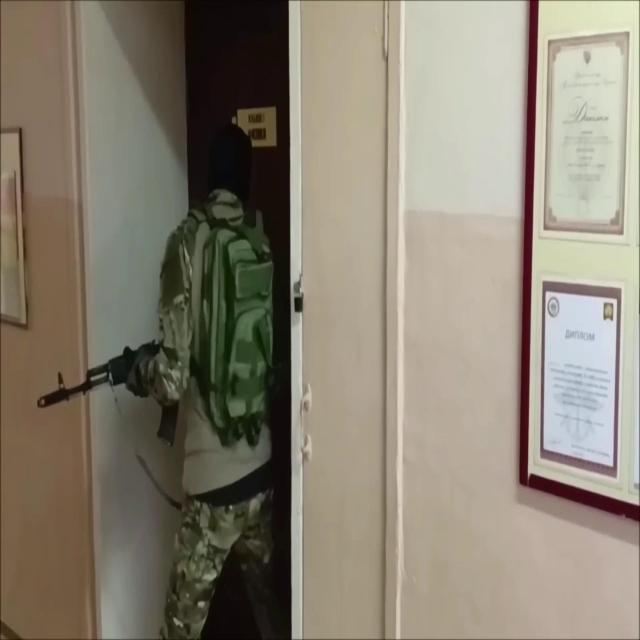pistol: (36, 338, 182, 446)
